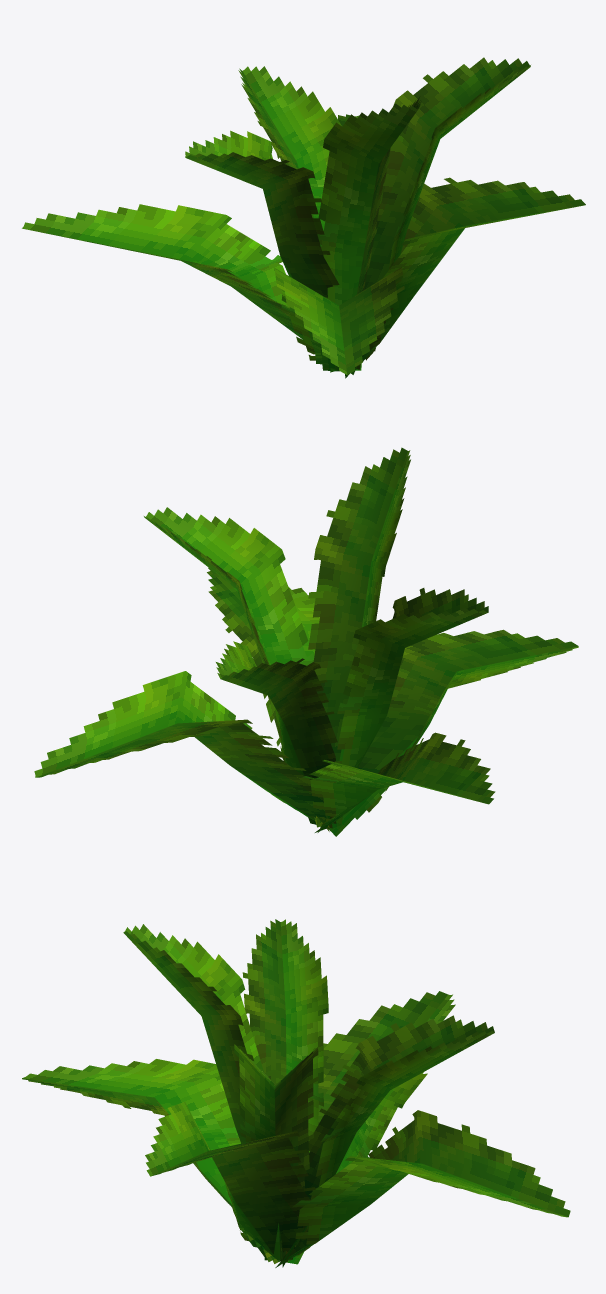
File: INST_MIRK_PLANT_TALLPLANT.fbx
3 views of the same model, one above another, from view 1: azimuth 30°, elevation 25°; view 2: azimuth 150°, elevation 25°; view 3: azimuth 270°, elevation 25° (orthographic). The views are drawn at different scales.
Visible parts, largest first — view 1: INST_MIRK_PLANT_TALLPLANT; view 2: INST_MIRK_PLANT_TALLPLANT; view 3: INST_MIRK_PLANT_TALLPLANT.
Part boxes in pixels (x1=…): INST_MIRK_PLANT_TALLPLANT: x1=22, y1=57, x2=585, y2=378; INST_MIRK_PLANT_TALLPLANT: x1=34, y1=447, x2=578, y2=836; INST_MIRK_PLANT_TALLPLANT: x1=22, y1=919, x2=570, y2=1267.
Size of the model in its own units: 18041 by 13705 by 19660.
Materials: 1 (1 with a texture image).
